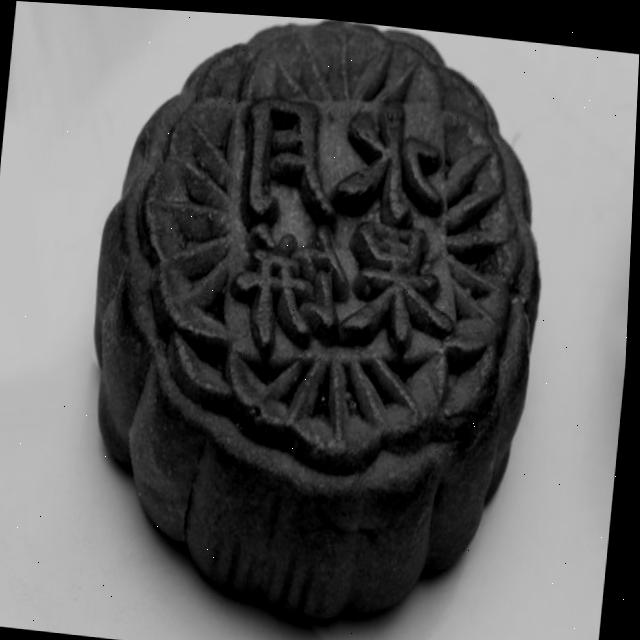蛋糕甜品: (38, 3, 587, 632)
